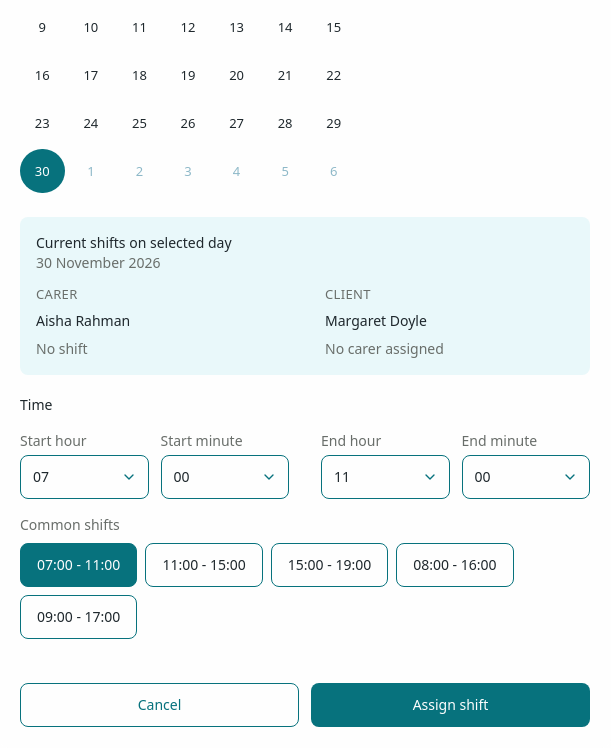
Scenario: Admin Manage › [ADM-UI-02][AC-03] a common shift fills the dropdowns and is marked pressed until they change
(page scrolled)
Click the button "09:00 - 17:00". click: (79, 617)
box: [20,595,137,639]
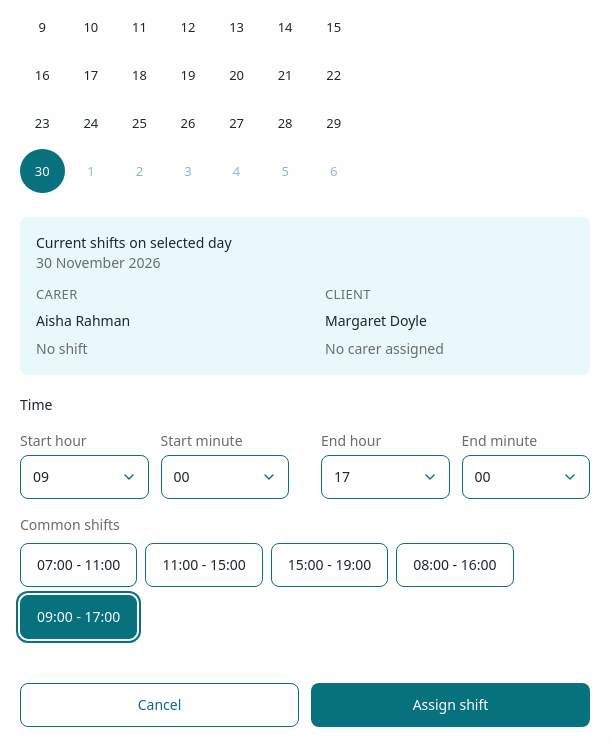
Check: the dropdown labelled "Start hour" shows "09", box [20,455,148,499]
Check: the dropdown labelled "End hour" shows "17", box [321,455,450,499]
Select "30" in the dropdown labelled "End minute". click: (526, 477)
box: [462,455,590,499]
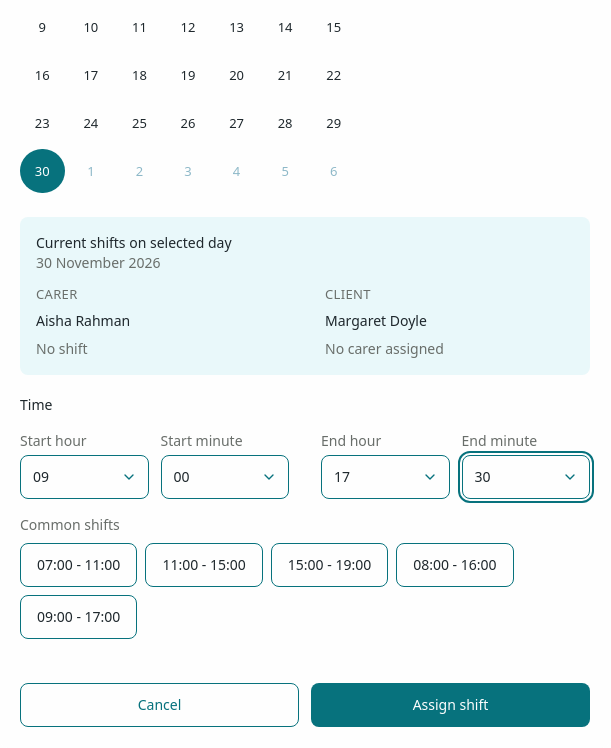
Check: the button "09:00 - 17:00" is not pressed, box [20,595,137,639]
Click the button "Assign shift". click: (450, 705)
box: [311,683,590,727]
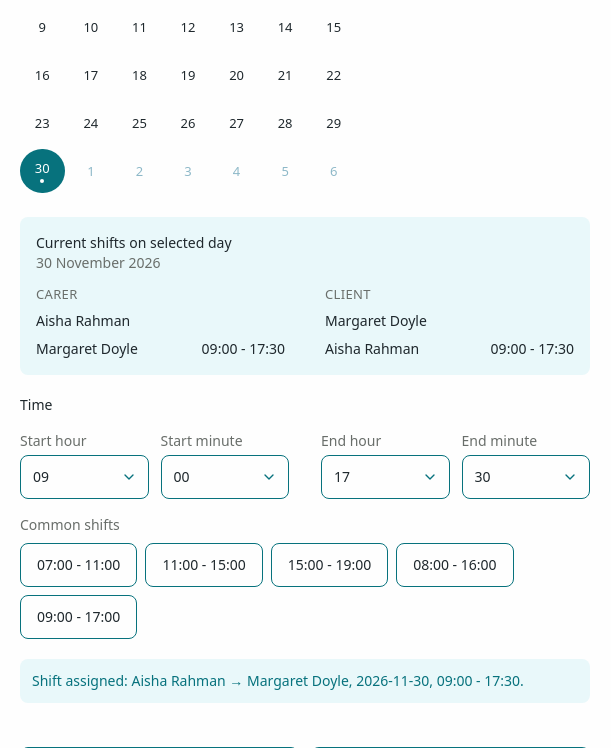
Check: the message shows "09:00 - 17:30", box [32,671,524,690]
